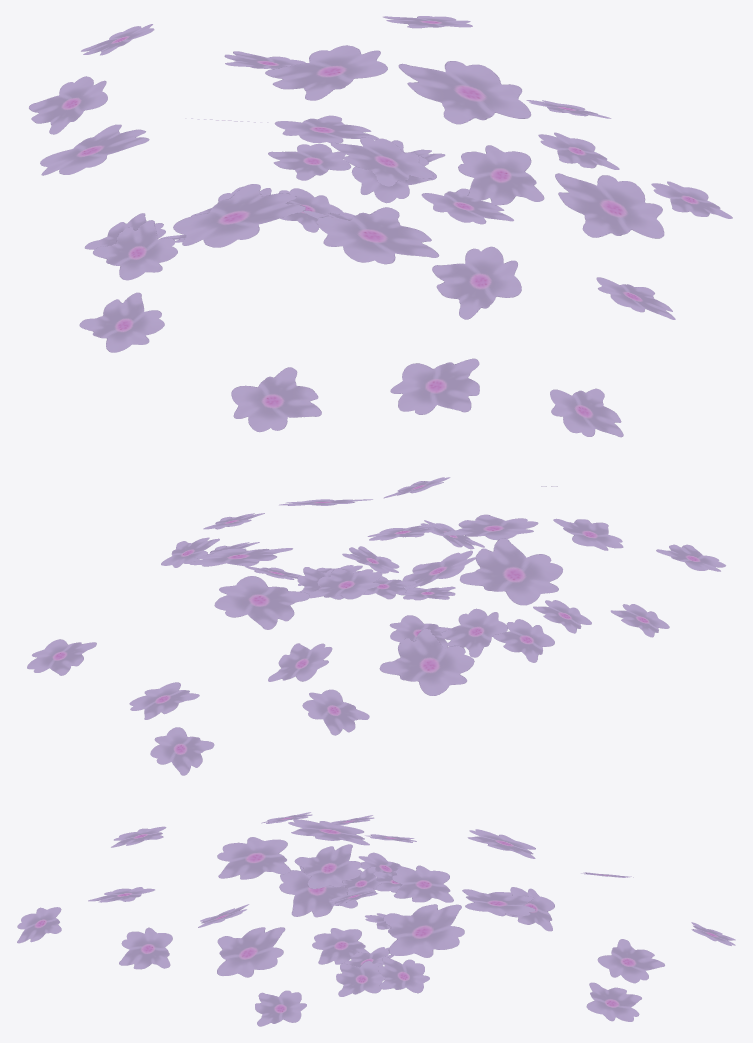
The model's file is SM_flowerpack_A_LOD1.FBX.
3 views of the same model, one above another, from view 1: azimuth 30°, elevation 25°; view 2: azimuth 150°, elevation 25°; view 3: azimuth 270°, elevation 25° (orthographic). The views are drawn at different scales.
Parts seen in each view (by area): view 1: SM_flowerpack_A_LOD1; view 2: SM_flowerpack_A_LOD1; view 3: SM_flowerpack_A_LOD1.
Boxes of the visible parts, x1=… form: SM_flowerpack_A_LOD1: x1=29, y1=16, x2=732, y2=437; SM_flowerpack_A_LOD1: x1=27, y1=477, x2=725, y2=775; SM_flowerpack_A_LOD1: x1=17, y1=812, x2=735, y2=1026.
Bounding box in the file's own units: 364 × 74.69 × 546.
1 material, 1 textured.
